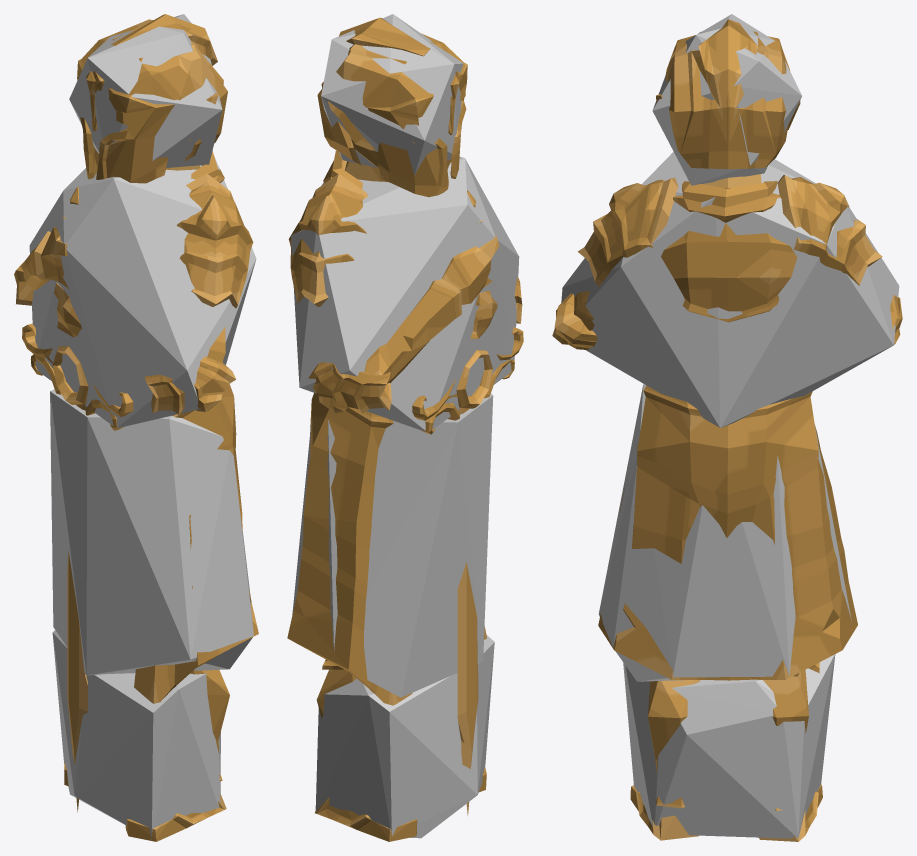
File: SM_Prop_Statue_04.fbx
The picture shows the model from 3 angles, left to right: view 1: azimuth 30°, elevation 25°; view 2: azimuth 150°, elevation 25°; view 3: azimuth 270°, elevation 25°; orthographic projection. The views are drawn at different scales.
Visible parts, largest first — view 1: SM_Prop_Statue_04_ConvexHulls, SM_Prop_Statue_04; view 2: SM_Prop_Statue_04_ConvexHulls, SM_Prop_Statue_04; view 3: SM_Prop_Statue_04_ConvexHulls, SM_Prop_Statue_04.
Part boxes in pixels (x1,y1,x2,y2): SM_Prop_Statue_04_ConvexHulls: (29, 14, 256, 839); SM_Prop_Statue_04: (14, 14, 258, 841); SM_Prop_Statue_04_ConvexHulls: (291, 14, 519, 838); SM_Prop_Statue_04: (287, 17, 523, 841); SM_Prop_Statue_04_ConvexHulls: (561, 14, 899, 838); SM_Prop_Statue_04: (552, 19, 902, 841).
Bounding box in the file's own units: 43.28 × 73.4 × 187.
2 materials, 1 textured.
